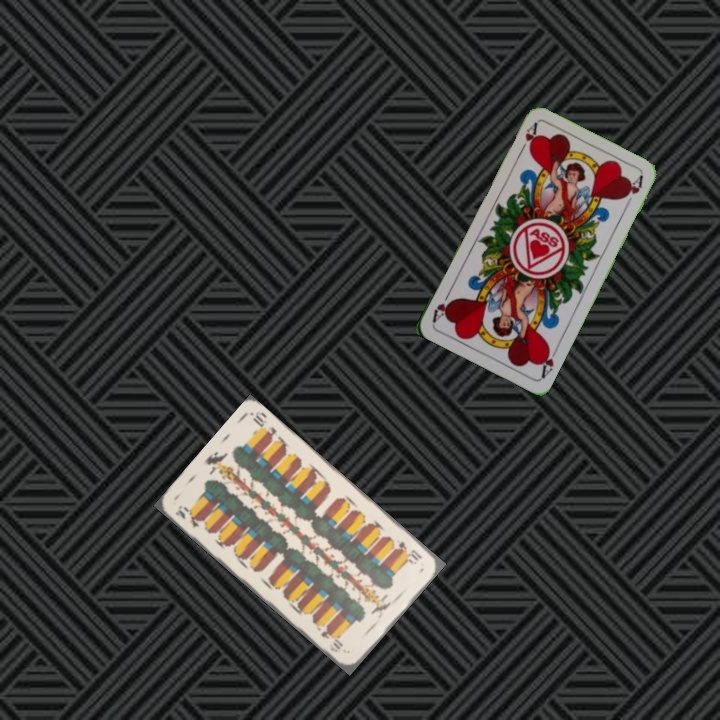E10: (171, 501, 208, 531), (394, 537, 425, 566)
HA: (536, 341, 561, 381), (515, 119, 540, 157)
